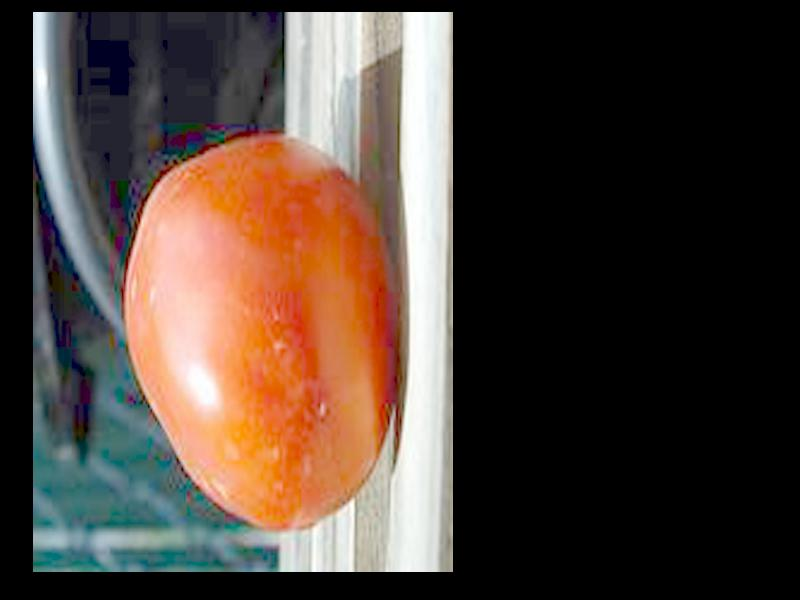Tomato: (124, 137, 393, 533)
